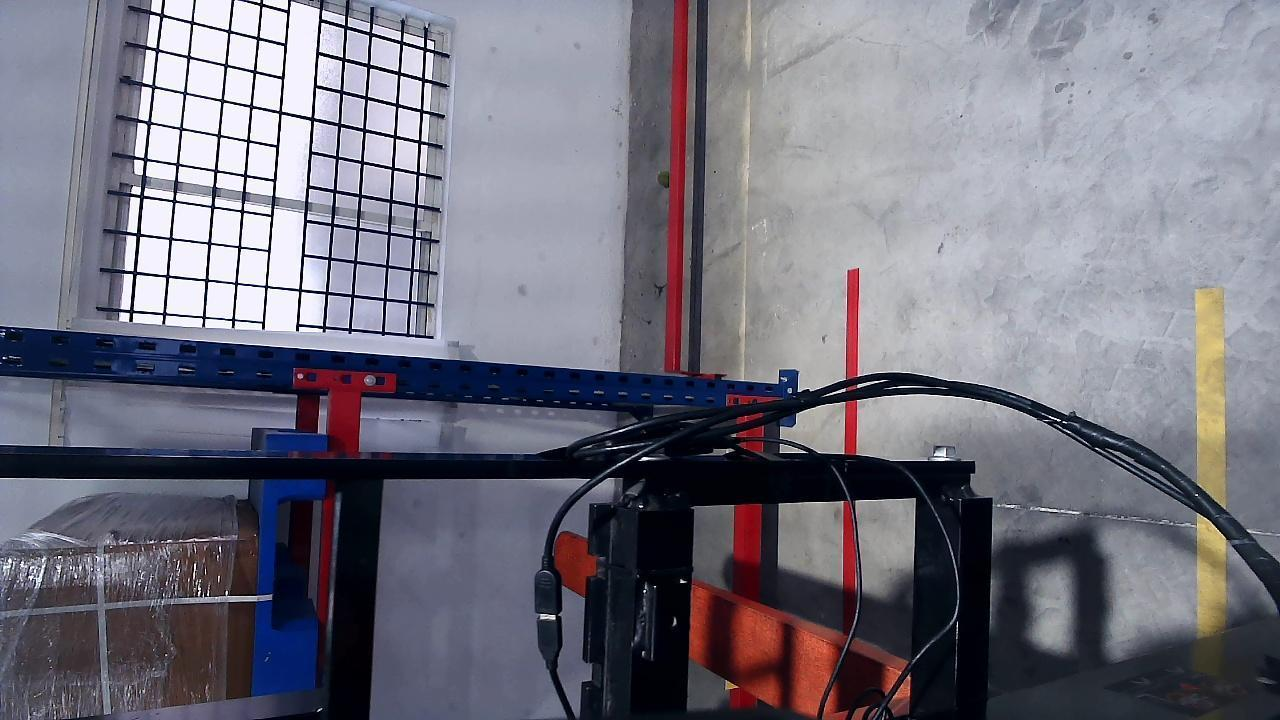red_line: (845, 268, 863, 635)
yellow_line: (1194, 287, 1227, 675)
